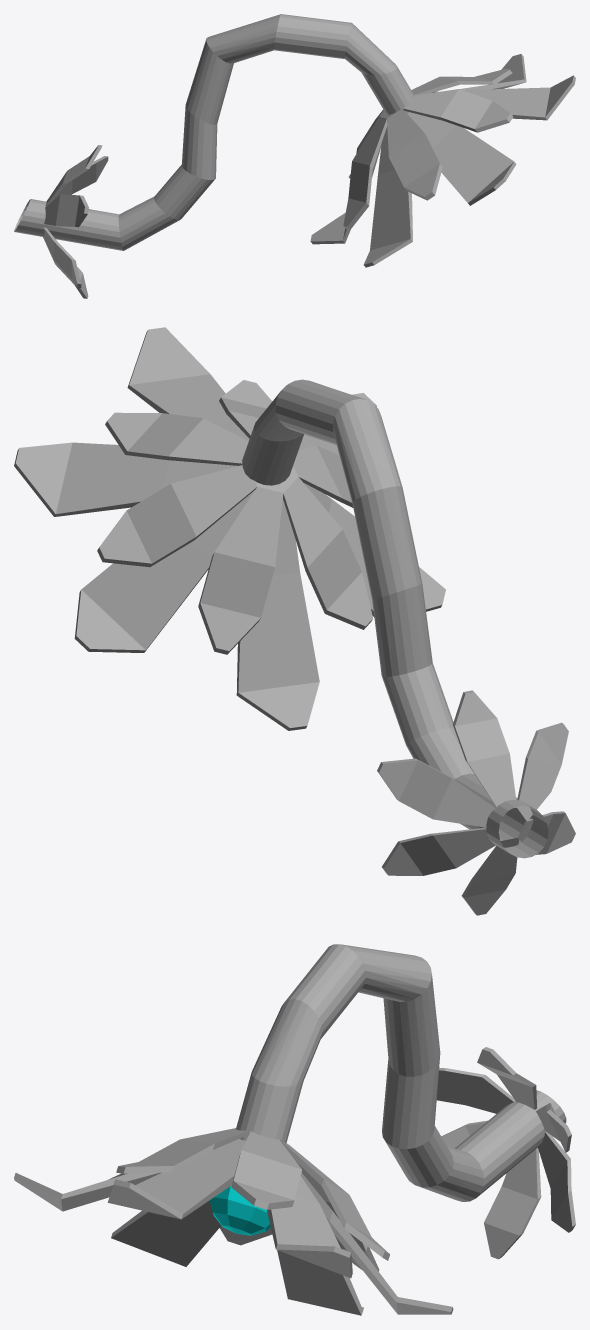
File: FlowerLamp.fbx
3 views of the same model, one above another, from view 1: azimuth 30°, elevation 25°; view 2: azimuth 150°, elevation 25°; view 3: azimuth 270°, elevation 25° (orthographic). The views are drawn at different scales.
Visible parts, largest first — view 1: pCylinder31; view 2: pCylinder31; view 3: pCylinder31.
Boxes of the visible parts, x1,y1,x2,y2 form: pCylinder31: (14,14,575,298); pCylinder31: (14,327,575,915); pCylinder31: (14,944,575,1315).
Size of the model in its own units: 107 by 66.67 by 82.74.
